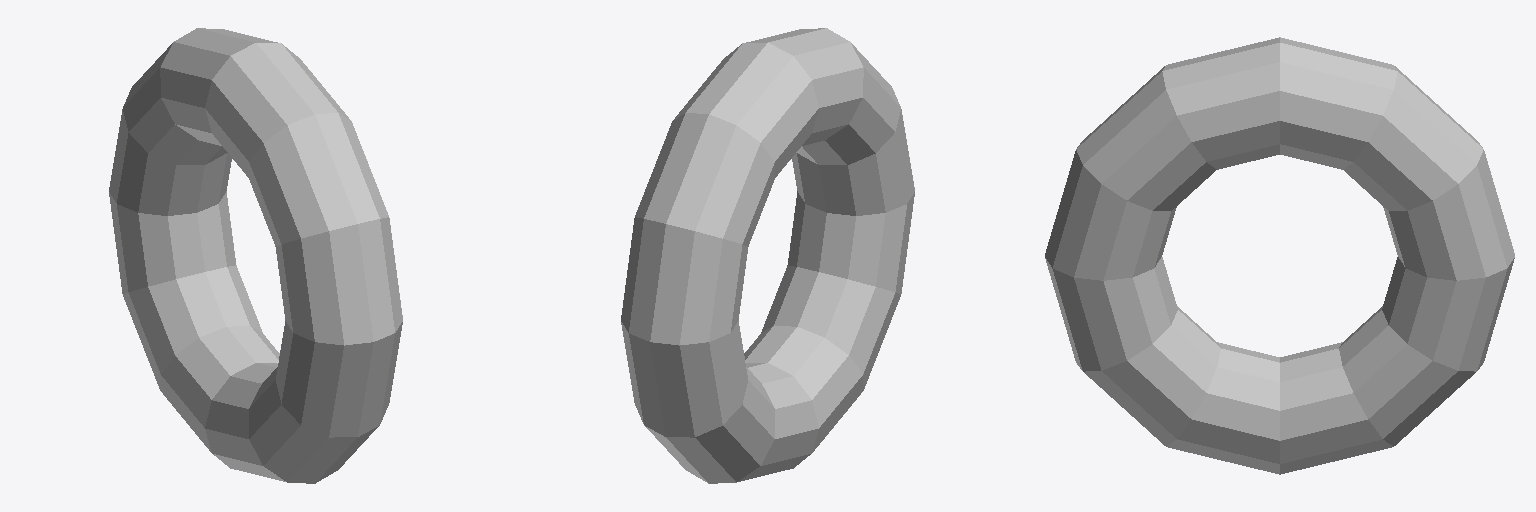
File: Ring.obj
The picture shows the model from 3 angles: view 1: azimuth 30°, elevation 25°; view 2: azimuth 150°, elevation 25°; view 3: azimuth 270°, elevation 25°; orthographic projection.
Parts seen in each view (by area): view 1: group[number redacted]; view 2: group[number redacted]; view 3: group[number redacted].
Part boxes in pixels (x1,y1,x2,y2): group[number redacted]: (109, 28, 402, 483); group[number redacted]: (621, 28, 914, 483); group[number redacted]: (1045, 37, 1514, 474).
Bounding box in the file's own units: 0.4625 × 1.85 × 1.85.